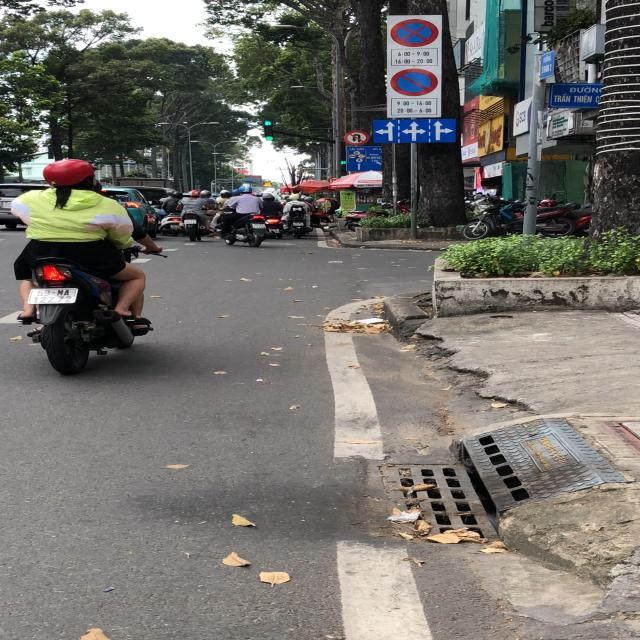Bien bao cam do xe: (389, 68, 445, 100)
Bien bao cam dung xe va do xe: (389, 18, 442, 50)
Bien bao cam quay dau xe: (342, 128, 373, 146)
